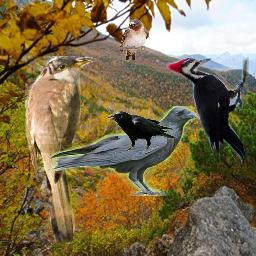Crow: (49, 106, 199, 196), (105, 111, 174, 151)
Cuckoo: (25, 56, 93, 244)
Swallow: (120, 19, 149, 60)
Woodpecker: (166, 57, 249, 166)
